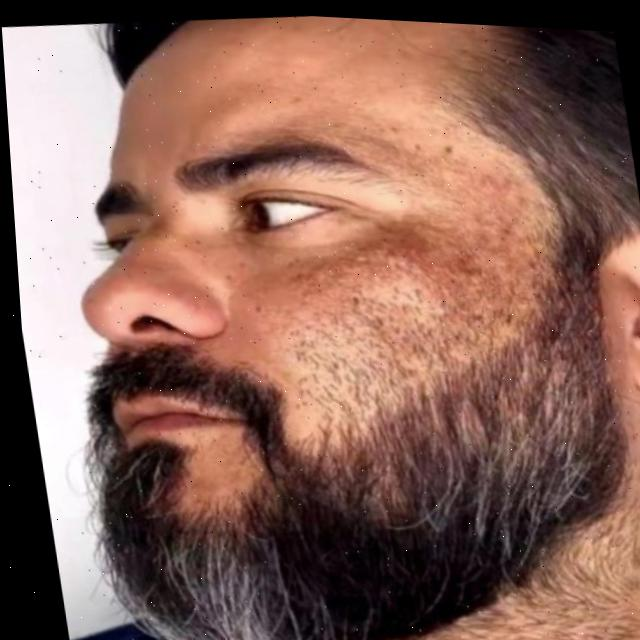Melasma: (293, 229, 479, 401)
